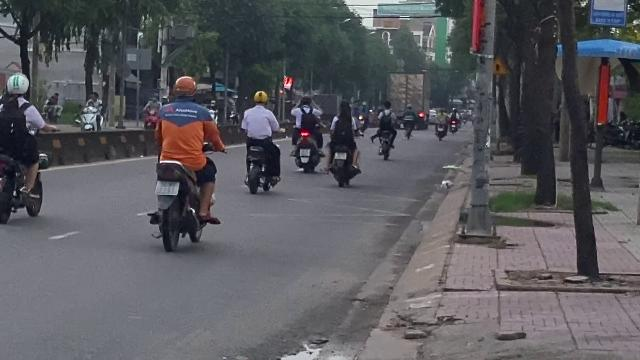helmet: (171, 75, 197, 99), (4, 72, 28, 96)
licenseplate: (154, 181, 178, 195)
motorcyclist: (146, 74, 224, 250), (0, 72, 48, 224)
